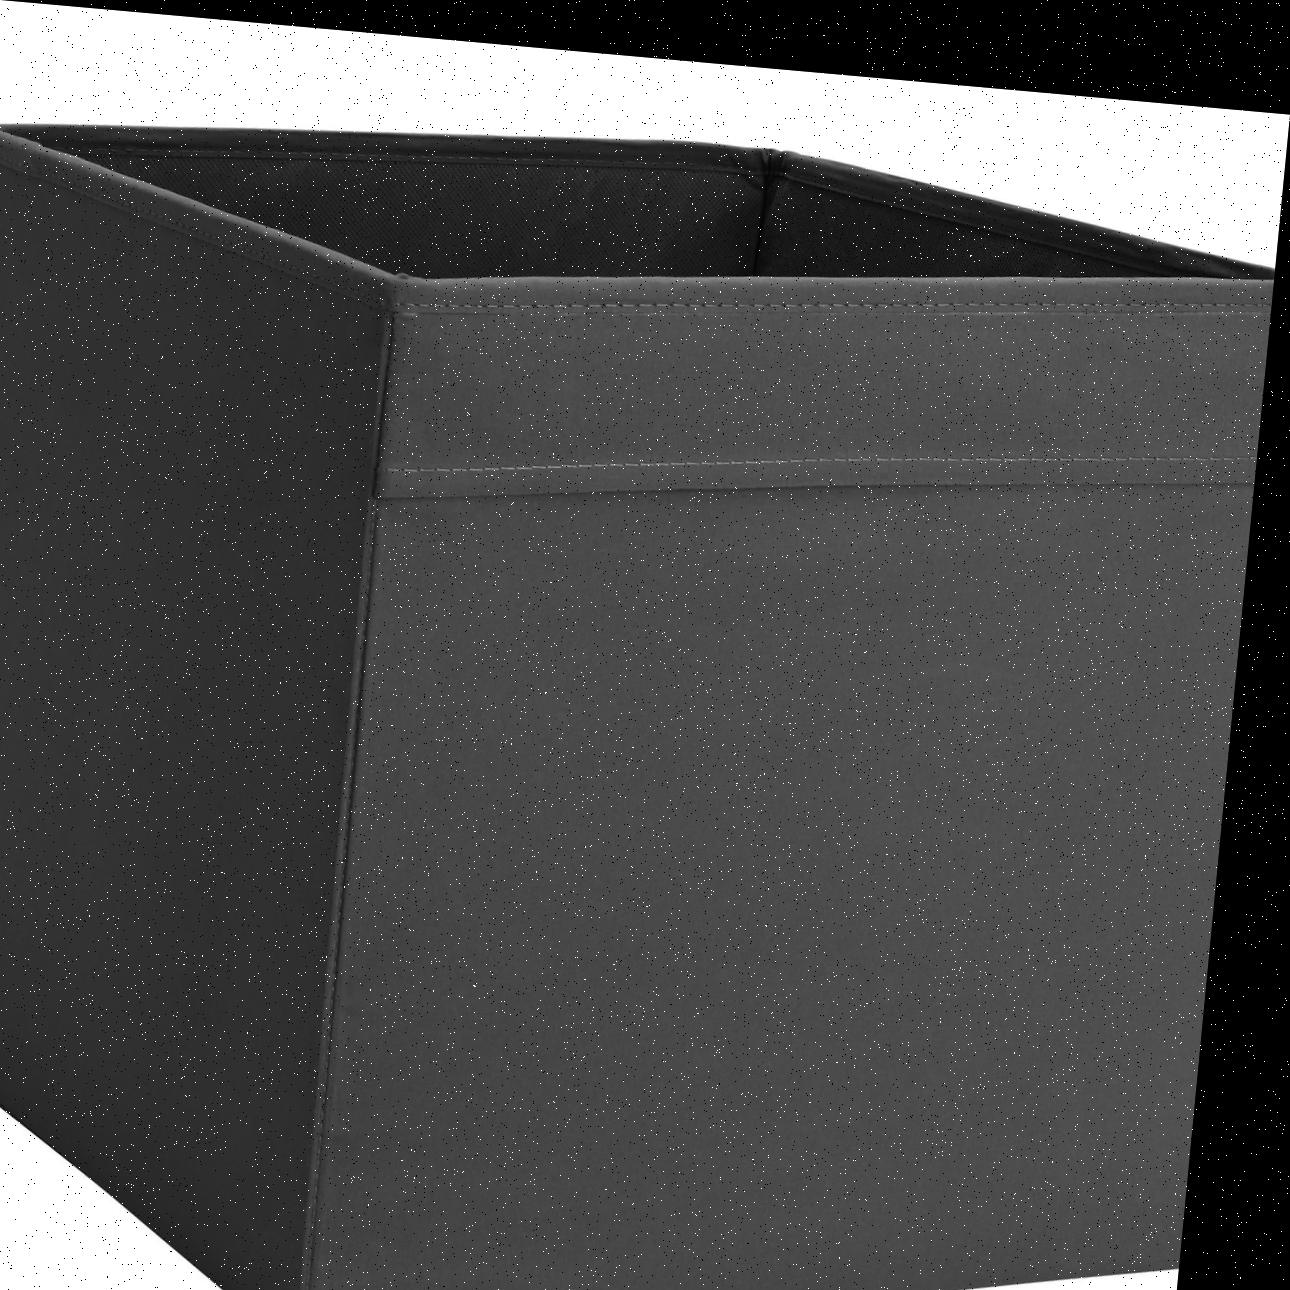cube: (0, 67, 1285, 1290)
